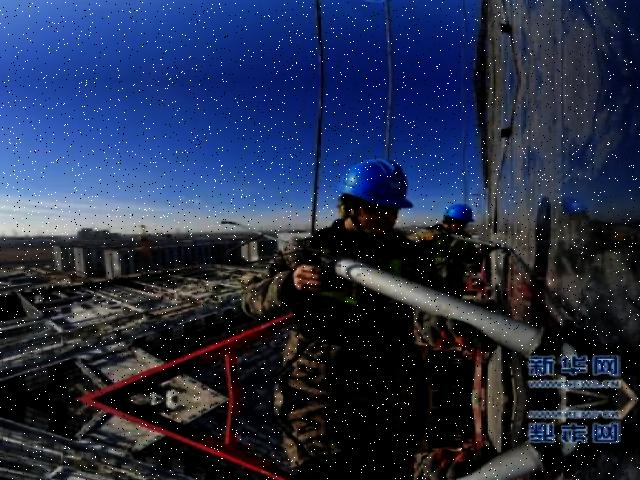Helmet: (332, 154, 417, 209), (440, 199, 475, 228)
